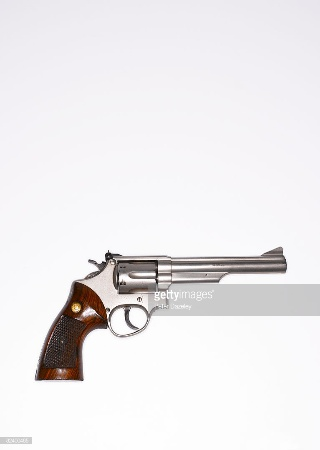handgun: (40, 246, 292, 384)
